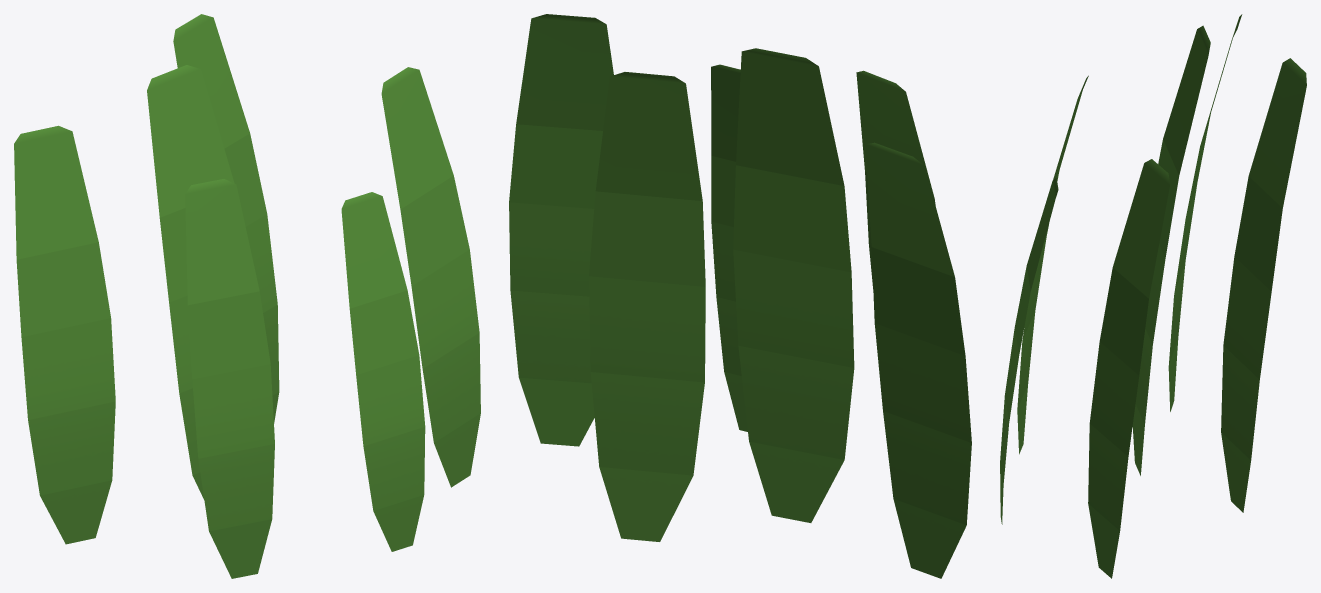
File: Dino_Vege_Grass_A_mesh.fbx
The picture shows the model from 3 angles, left to right: view 1: azimuth 30°, elevation 25°; view 2: azimuth 150°, elevation 25°; view 3: azimuth 270°, elevation 25°; orthographic projection. The views are drawn at different scales.
Visible parts, largest first — view 1: Dino_Vege_Grass_A_mesh; view 2: Dino_Vege_Grass_A_mesh; view 3: Dino_Vege_Grass_A_mesh.
Boxes of the visible parts, x1,y1,x2,y2 form: Dino_Vege_Grass_A_mesh: (14, 14, 480, 578); Dino_Vege_Grass_A_mesh: (509, 14, 971, 578); Dino_Vege_Grass_A_mesh: (1000, 14, 1306, 578).
Bounding box in the file's own units: 11.98 × 11.72 × 7.65.
